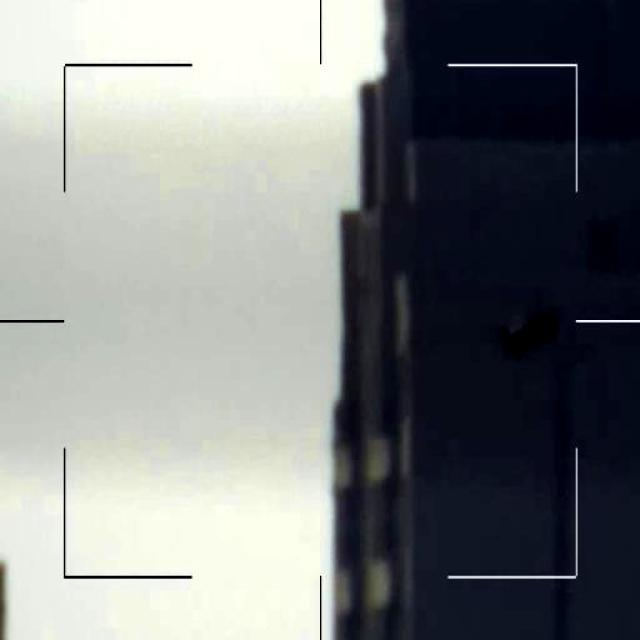bird: (505, 314, 550, 356)
